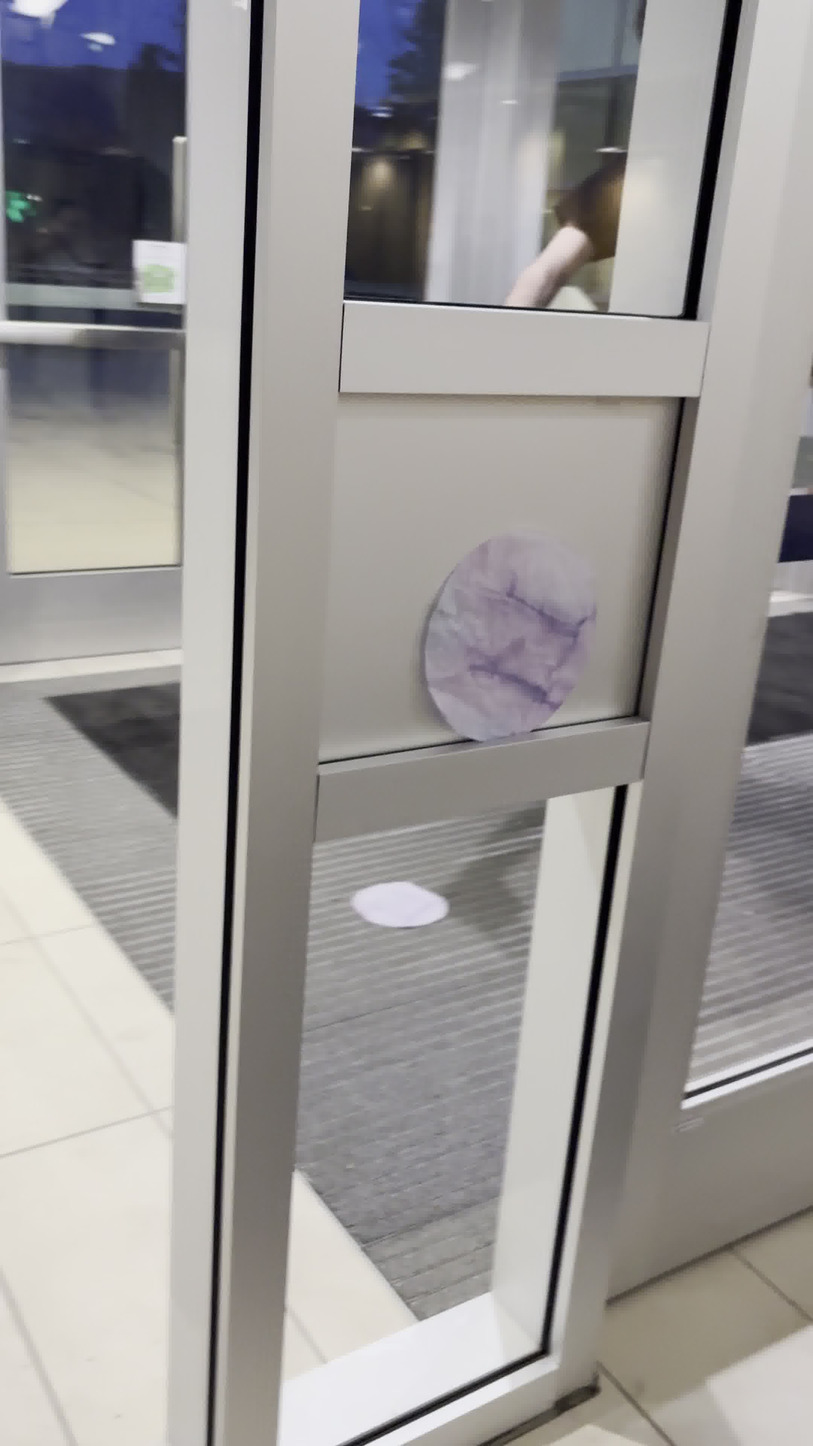Target: (420, 530, 601, 744)
